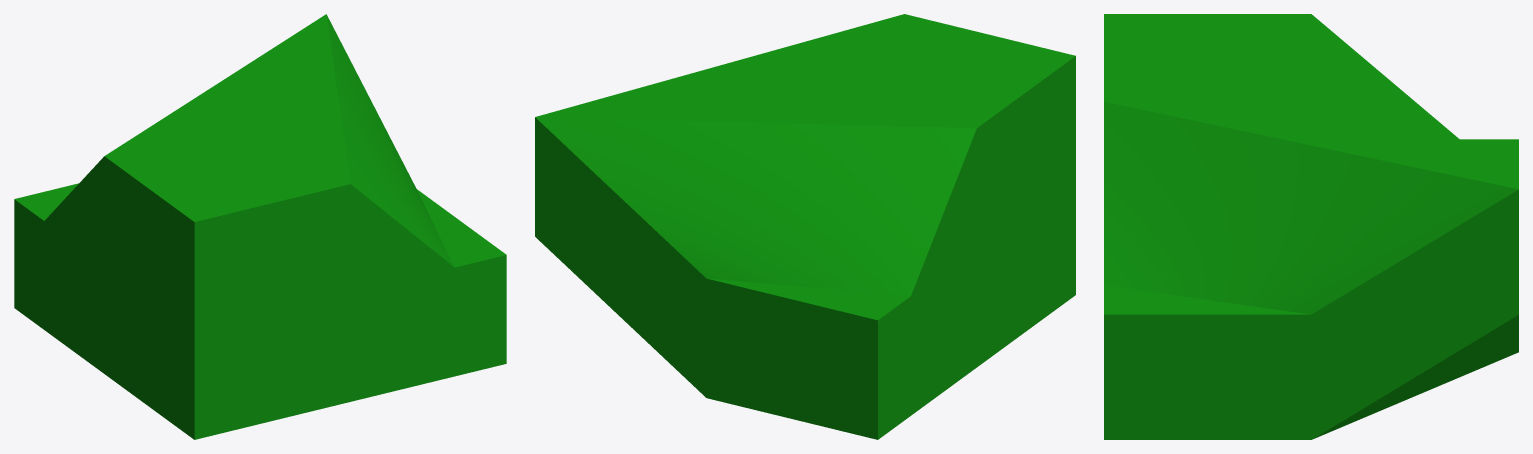
Rendered from PecaK.glb.
3 renders of one model, left to right at view 1: azimuth 30°, elevation 25°; view 2: azimuth 150°, elevation 25°; view 3: azimuth 270°, elevation 25°, orthographic. The views are drawn at different scales.
Parts seen in each view (by area): view 1: Sólido1; view 2: Sólido1; view 3: Sólido1.
Part boxes in pixels (<box>): Sólido1: <box>14,14,506,439</box>; Sólido1: <box>535,14,1075,439</box>; Sólido1: <box>1104,14,1518,439</box>.
Bounding box in the file's own units: 0.03 × 0.02 × 0.03.
